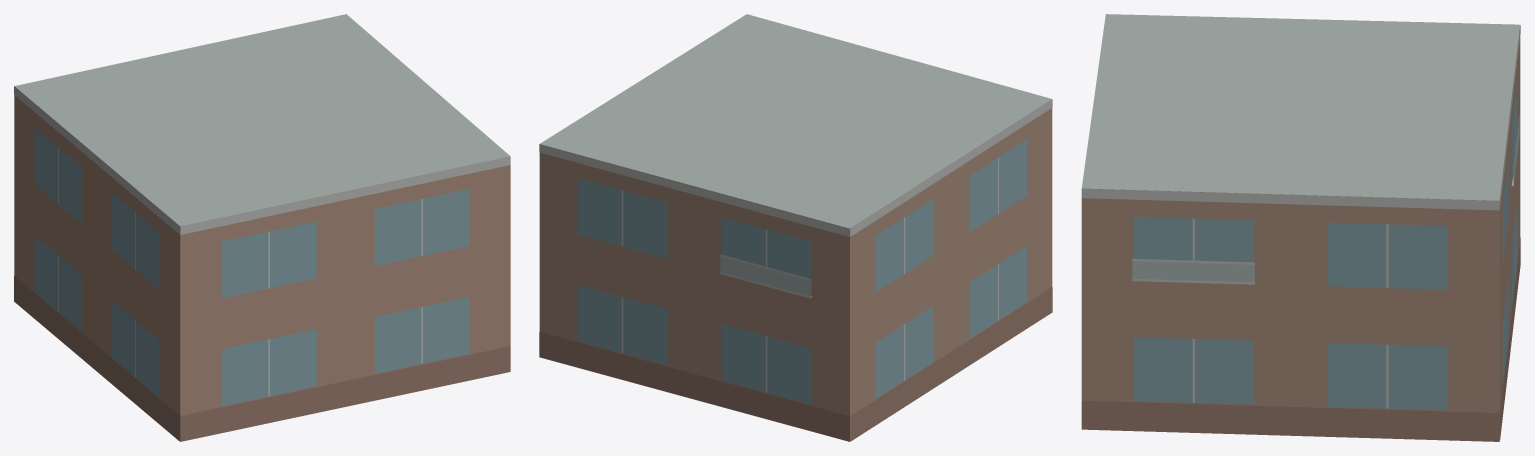
The model's file is survey-upis-32658122.glb.
3 views of the same model, side by side, from view 1: azimuth 30°, elevation 25°; view 2: azimuth 150°, elevation 25°; view 3: azimuth 270°, elevation 25° (orthographic). The views are drawn at different scales.
Visible parts, largest first — view 1: survey-upis-32658122.tmp; view 2: survey-upis-32658122.tmp; view 3: survey-upis-32658122.tmp.
Boxes of the visible parts, x1,y1,x2,y2 form: survey-upis-32658122.tmp: [14, 14, 510, 441]; survey-upis-32658122.tmp: [539, 14, 1052, 441]; survey-upis-32658122.tmp: [1081, 14, 1520, 441].
Size of the model in its own units: 10.15 by 6.1 by 10.07.
